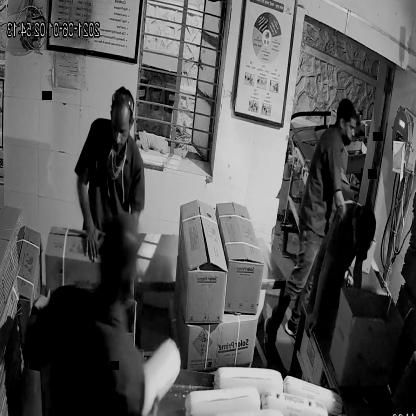no_goggles: (108, 116, 138, 142)
